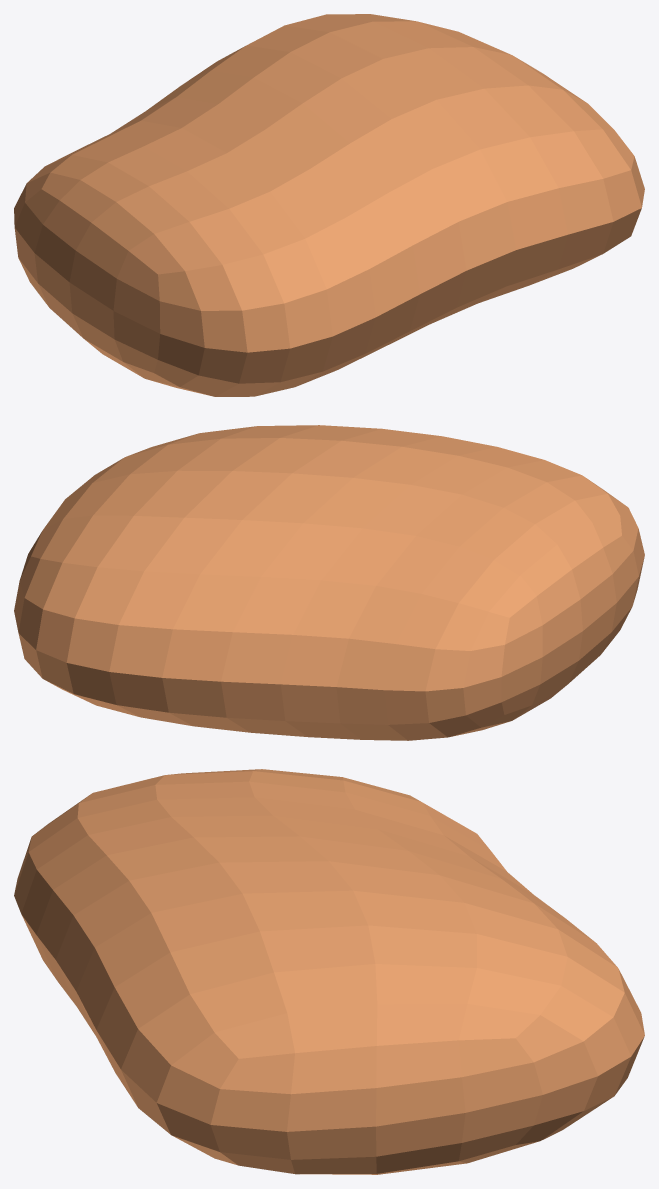
File: RockPlatform.fbx
3 renders of one model, top to bottom at view 1: azimuth 30°, elevation 25°; view 2: azimuth 150°, elevation 25°; view 3: azimuth 270°, elevation 25°, orthographic. The views are drawn at different scales.
Visible parts, largest first — view 1: Cube; view 2: Cube; view 3: Cube.
Boxes of the visible parts, x1=… form: Cube: x1=14, y1=14, x2=644, y2=396; Cube: x1=14, y1=425, x2=644, y2=740; Cube: x1=14, y1=769, x2=644, y2=1174.
Bounding box in the file's own units: 376 × 144 × 355.
